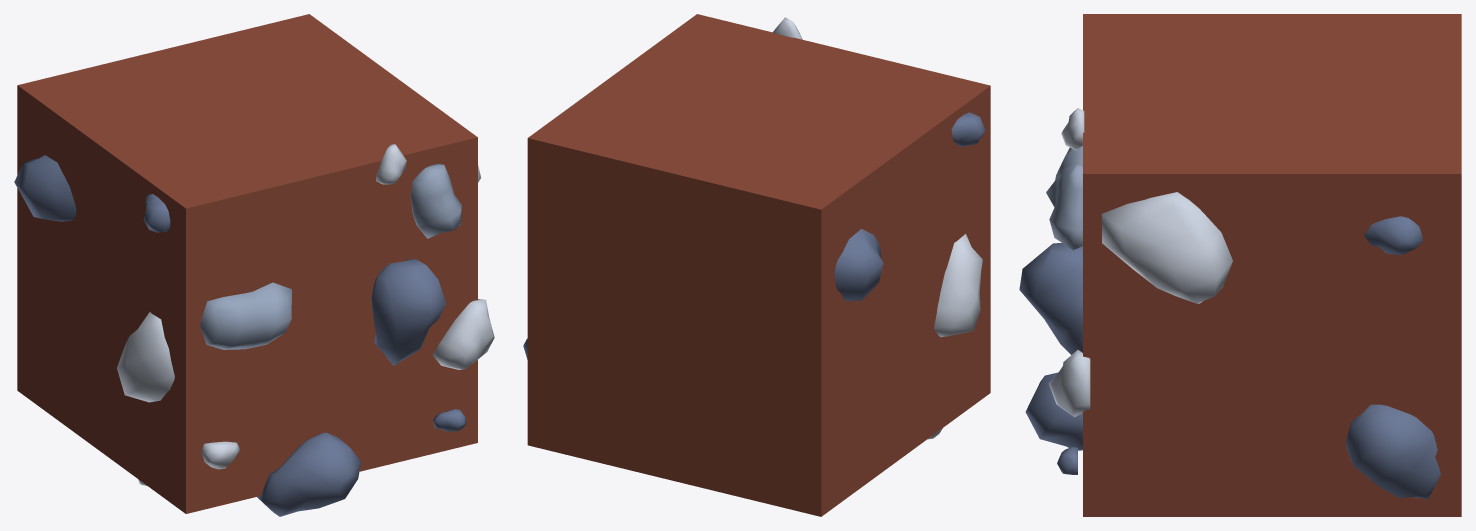
Rendered from tilePlain.glb.
3 views of the same model, side by side, from view 1: azimuth 30°, elevation 25°; view 2: azimuth 150°, elevation 25°; view 3: azimuth 270°, elevation 25° (orthographic). The views are drawn at different scales.
Visible parts, largest first — view 1: plain; view 2: plain; view 3: plain.
Boxes of the visible parts, x1,y1,x2,y2 form: plain: (14, 14, 494, 516); plain: (523, 14, 990, 516); plain: (1019, 14, 1461, 516).
Size of what is drawn, in the model's own units: 2.43 by 2.26 by 2.34.
Materials: 1 (1 with a texture image).
